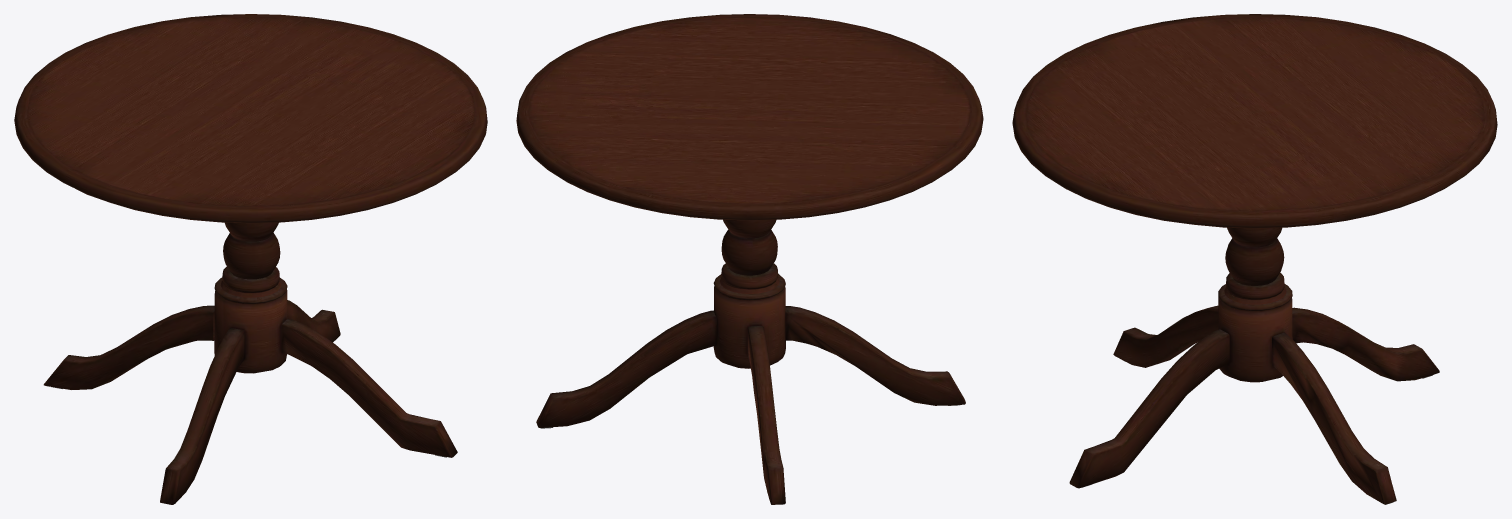
File: round_wooden_table_01.glb
The picture shows the model from 3 angles, left to right: view 1: azimuth 30°, elevation 25°; view 2: azimuth 150°, elevation 25°; view 3: azimuth 270°, elevation 25°; orthographic projection. The views are drawn at different scales.
Parts seen in each view (by area): view 1: round_wooden_table_01; view 2: round_wooden_table_01; view 3: round_wooden_table_01.
Part boxes in pixels (bbox=[...]): round_wooden_table_01: bbox=[14, 14, 487, 504]; round_wooden_table_01: bbox=[516, 14, 983, 504]; round_wooden_table_01: bbox=[1012, 14, 1497, 504].
Bounding box in the file's own units: 1.4 × 1 × 1.4.
Materials: 1 (1 with a texture image).
